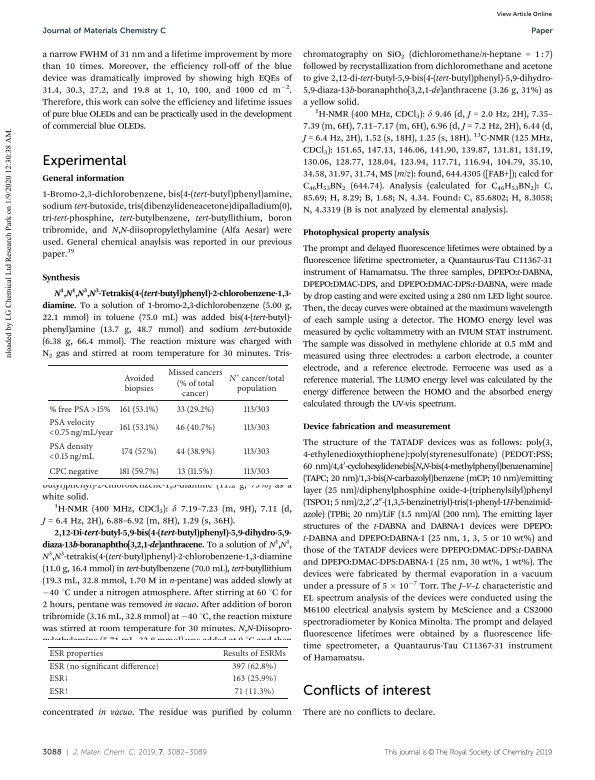borderless: (46, 363, 288, 478), (46, 645, 288, 698)
cell: (167, 368, 224, 399), (48, 417, 114, 440), (228, 369, 285, 394), (48, 662, 160, 672), (48, 441, 95, 464), (48, 400, 112, 416), (123, 373, 155, 394), (222, 649, 287, 659), (48, 466, 99, 477), (48, 649, 104, 659), (118, 466, 160, 477), (233, 686, 275, 697), (231, 662, 277, 672), (231, 674, 277, 684), (175, 422, 216, 433), (175, 446, 216, 457), (119, 422, 159, 433), (121, 446, 158, 457), (177, 466, 214, 477), (119, 404, 159, 414), (176, 404, 215, 414), (243, 422, 271, 433), (243, 446, 271, 457), (243, 466, 271, 477), (243, 404, 271, 414), (48, 686, 70, 697), (48, 674, 70, 684)
